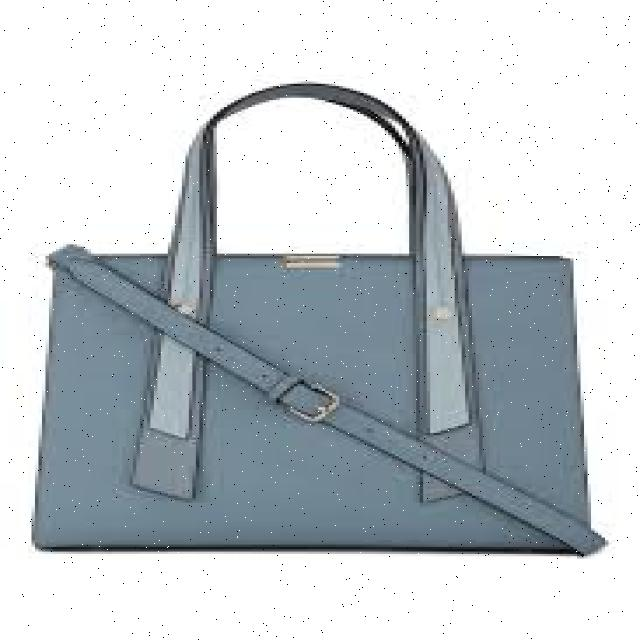handbag: (28, 79, 605, 554)
